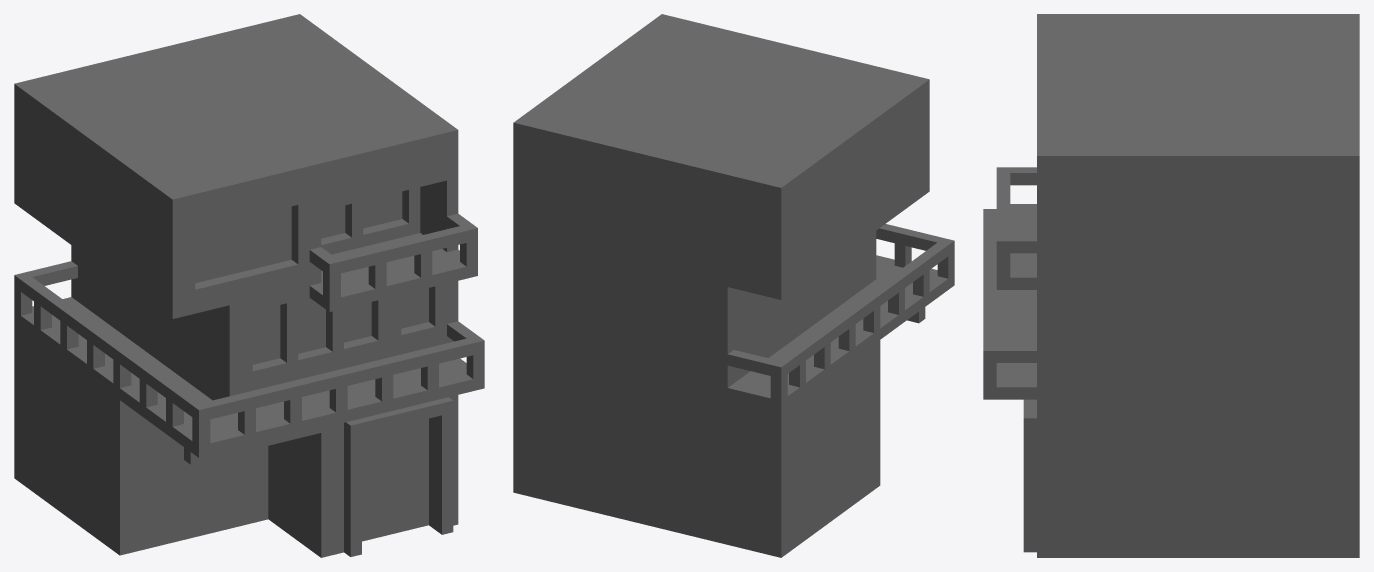
File: HouseGroup-2-FistHouse.obj
The picture shows the model from 3 angles, left to right: view 1: azimuth 30°, elevation 25°; view 2: azimuth 150°, elevation 25°; view 3: azimuth 270°, elevation 25°; orthographic projection. The views are drawn at different scales.
Visible parts, largest first — view 1: FistHouse; view 2: FistHouse; view 3: FistHouse.
Boxes of the visible parts, left/top/right/bottom form: FistHouse: left=14, top=14, right=484, bottom=557; FistHouse: left=513, top=14, right=954, bottom=557; FistHouse: left=983, top=14, right=1359, bottom=557.
Size of the model in its own units: 5 by 6.6 by 5.6.
Materials: 1 (1 with a texture image).
